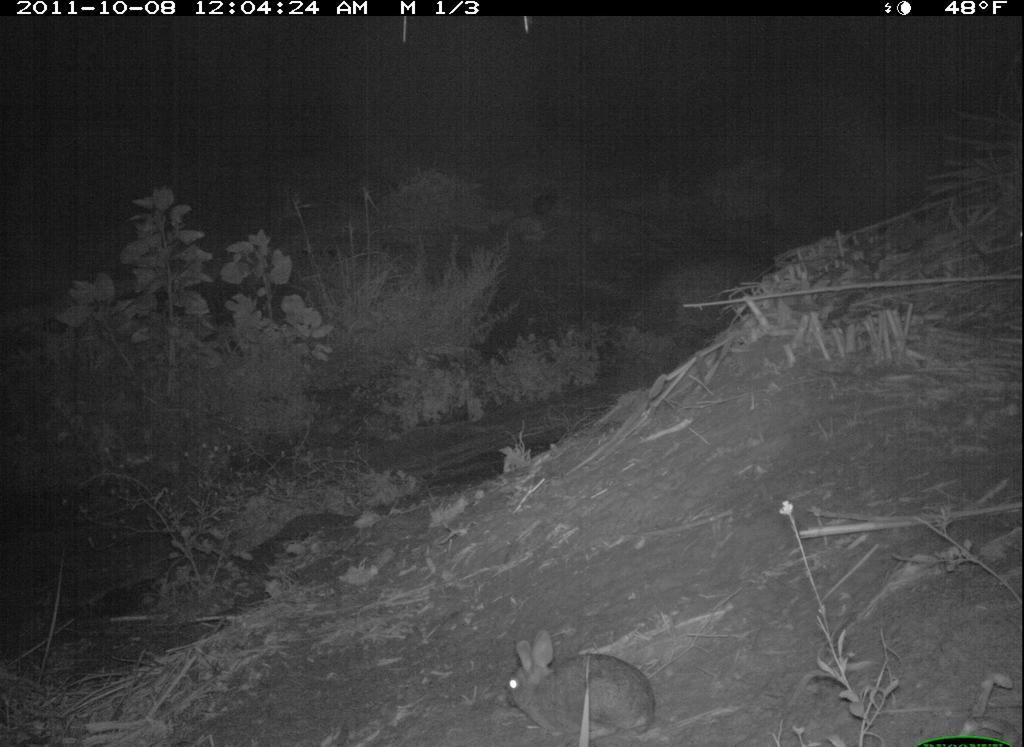rabbit: (500, 623, 666, 742)
